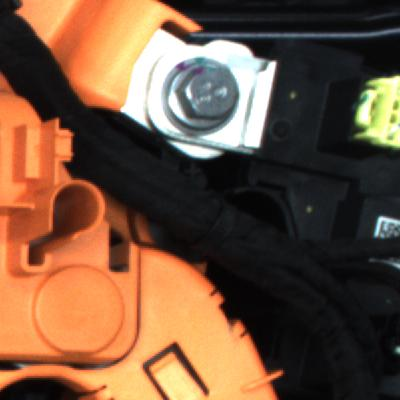nut_b: (153, 56, 249, 138)
